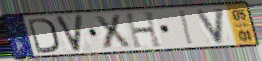D: (26, 17, 60, 55)
H: (123, 10, 165, 50)
I: (179, 9, 196, 47)
V: (53, 13, 85, 54), (194, 6, 227, 45)
X: (91, 13, 134, 50)
